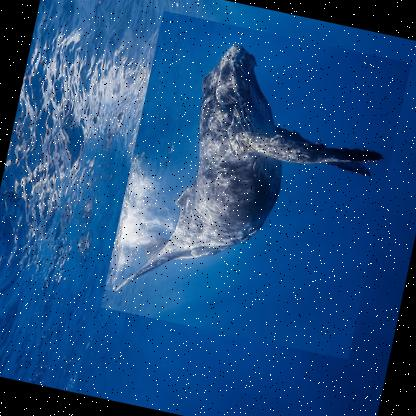blue_whale: (100, 8, 412, 358)
